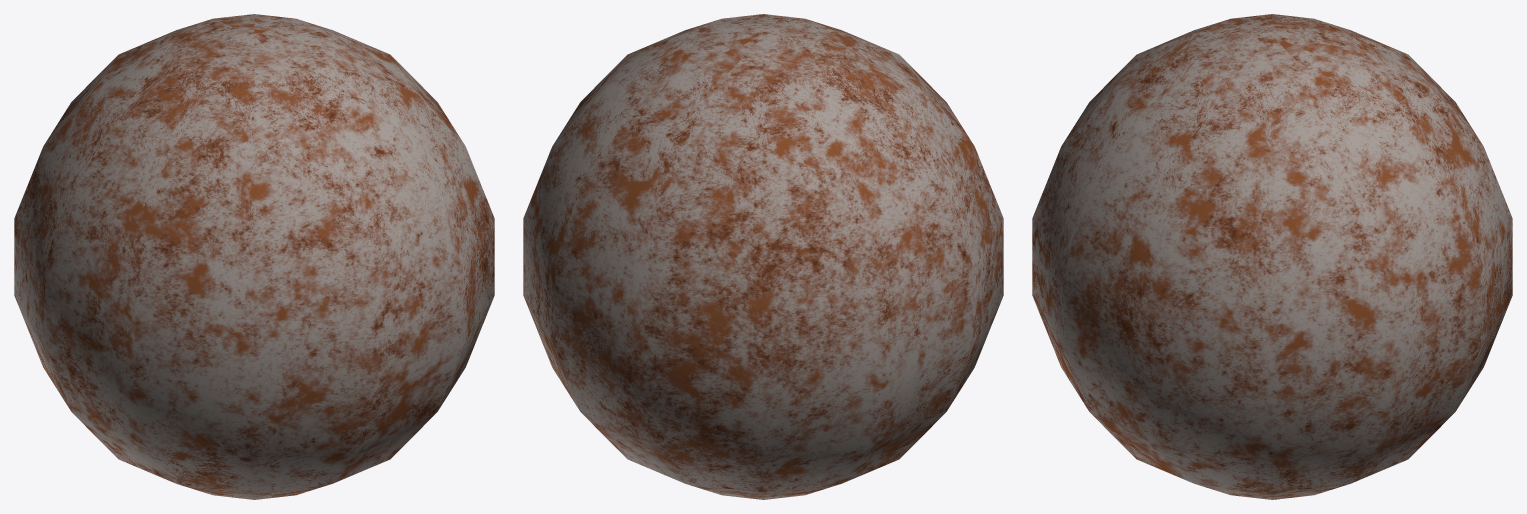
The model's file is LP_Ammunition_Basic 1.fbx.
3 views of the same model, side by side, from view 1: azimuth 30°, elevation 25°; view 2: azimuth 150°, elevation 25°; view 3: azimuth 270°, elevation 25° (orthographic).
Parts seen in each view (by area): view 1: Sphere; view 2: Sphere; view 3: Sphere.
Boxes of the visible parts, bbox=[...] form: Sphere: bbox=[14, 14, 494, 499]; Sphere: bbox=[523, 14, 1003, 499]; Sphere: bbox=[1032, 14, 1512, 499].
Size of the model in its own units: 197 by 200 by 197.
